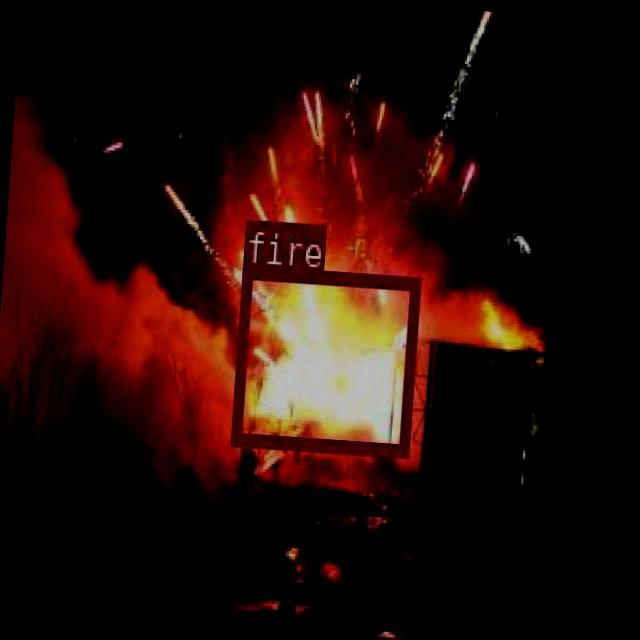fire: (230, 262, 418, 453)
